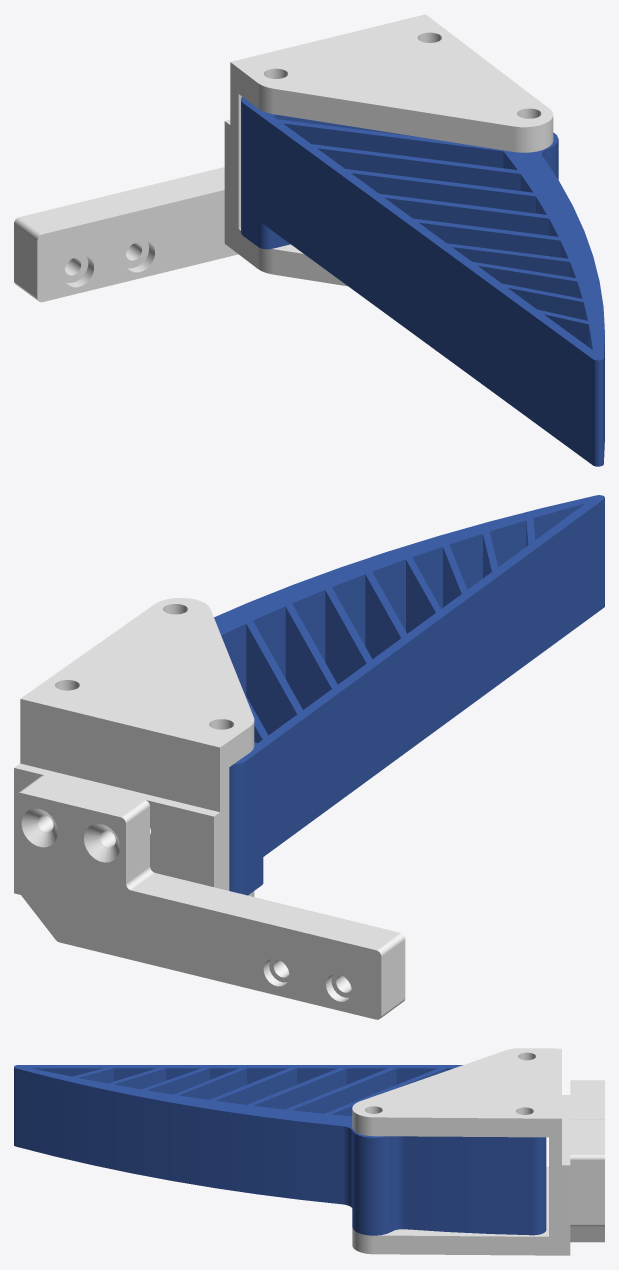
File: left_finger.dae
The picture shows the model from 3 angles, top to bottom: view 1: azimuth 30°, elevation 25°; view 2: azimuth 150°, elevation 25°; view 3: azimuth 270°, elevation 25°; orthographic projection. The views are drawn at different scales.
Visible parts, largest first — view 1: Body1 (×3); view 2: Body1 (×3); view 3: Body1 (×3).
Part boxes in pixels (x1,y1,x2,y2): Body1 (×3): (14,14,604,466); Body1 (×3): (14,495,604,1019); Body1 (×3): (14,1048,604,1255).
Bounding box in the file's own units: 0.0756 × 0.1369 × 0.0377.
